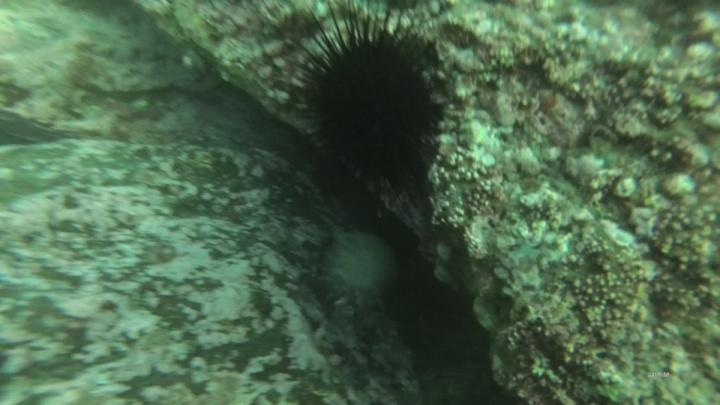echinus: (298, 20, 441, 218)
